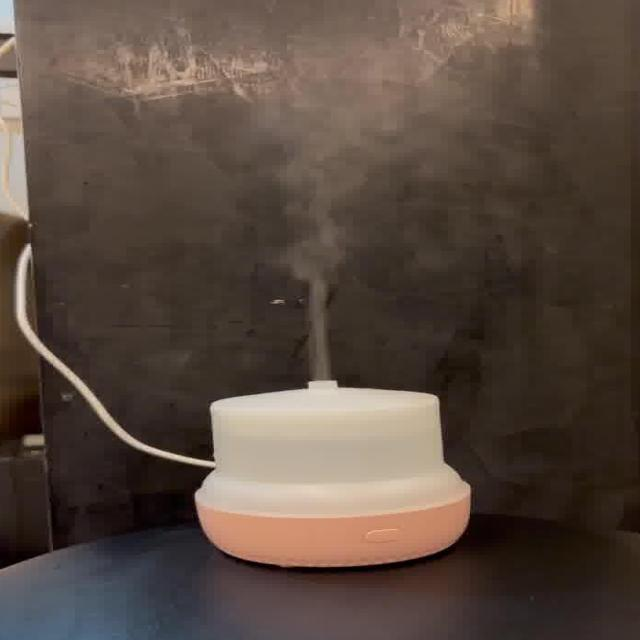fire: (232, 70, 430, 378)
